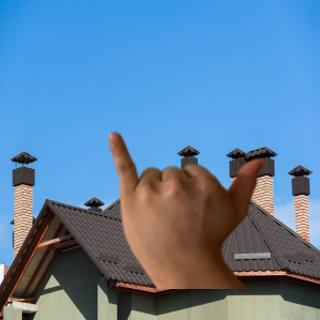HAVE: (102, 125, 273, 277)
